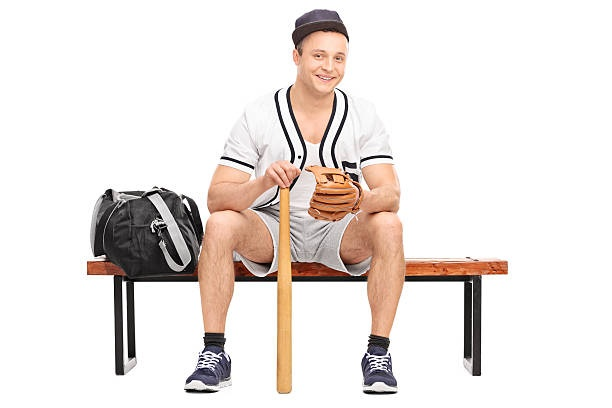bita: (273, 169, 298, 393)
